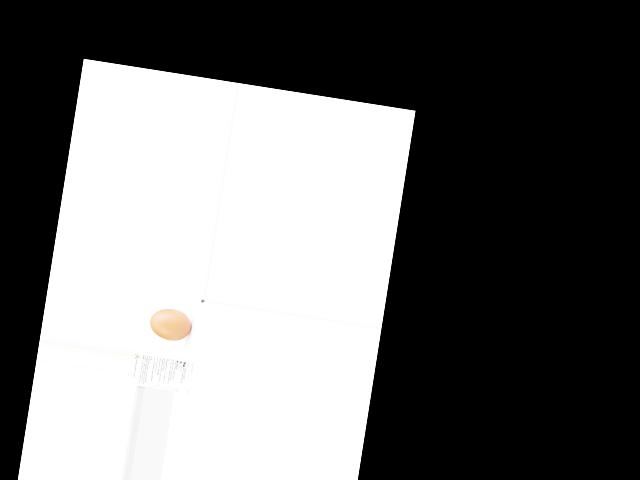egg: (148, 306, 193, 343)
